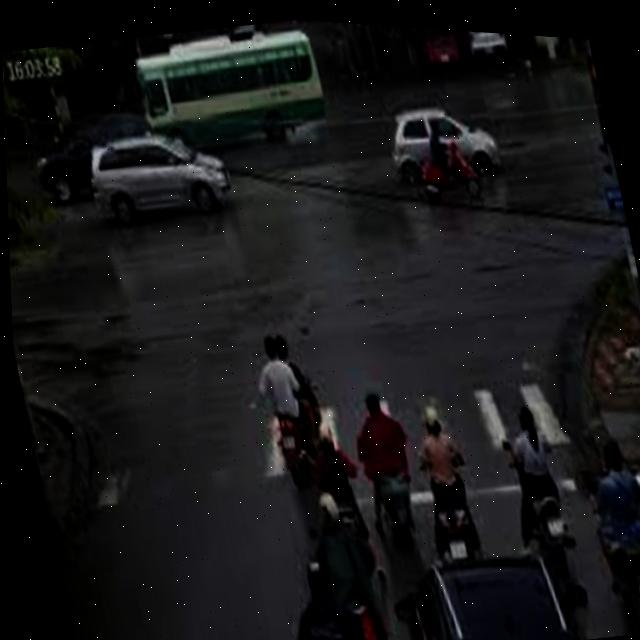car: (122, 12, 342, 179), (80, 117, 241, 237), (376, 82, 513, 196)
motorcycle: (519, 475, 587, 575), (363, 452, 419, 541), (415, 138, 485, 209), (265, 405, 315, 495), (427, 492, 478, 572), (605, 530, 640, 632)
